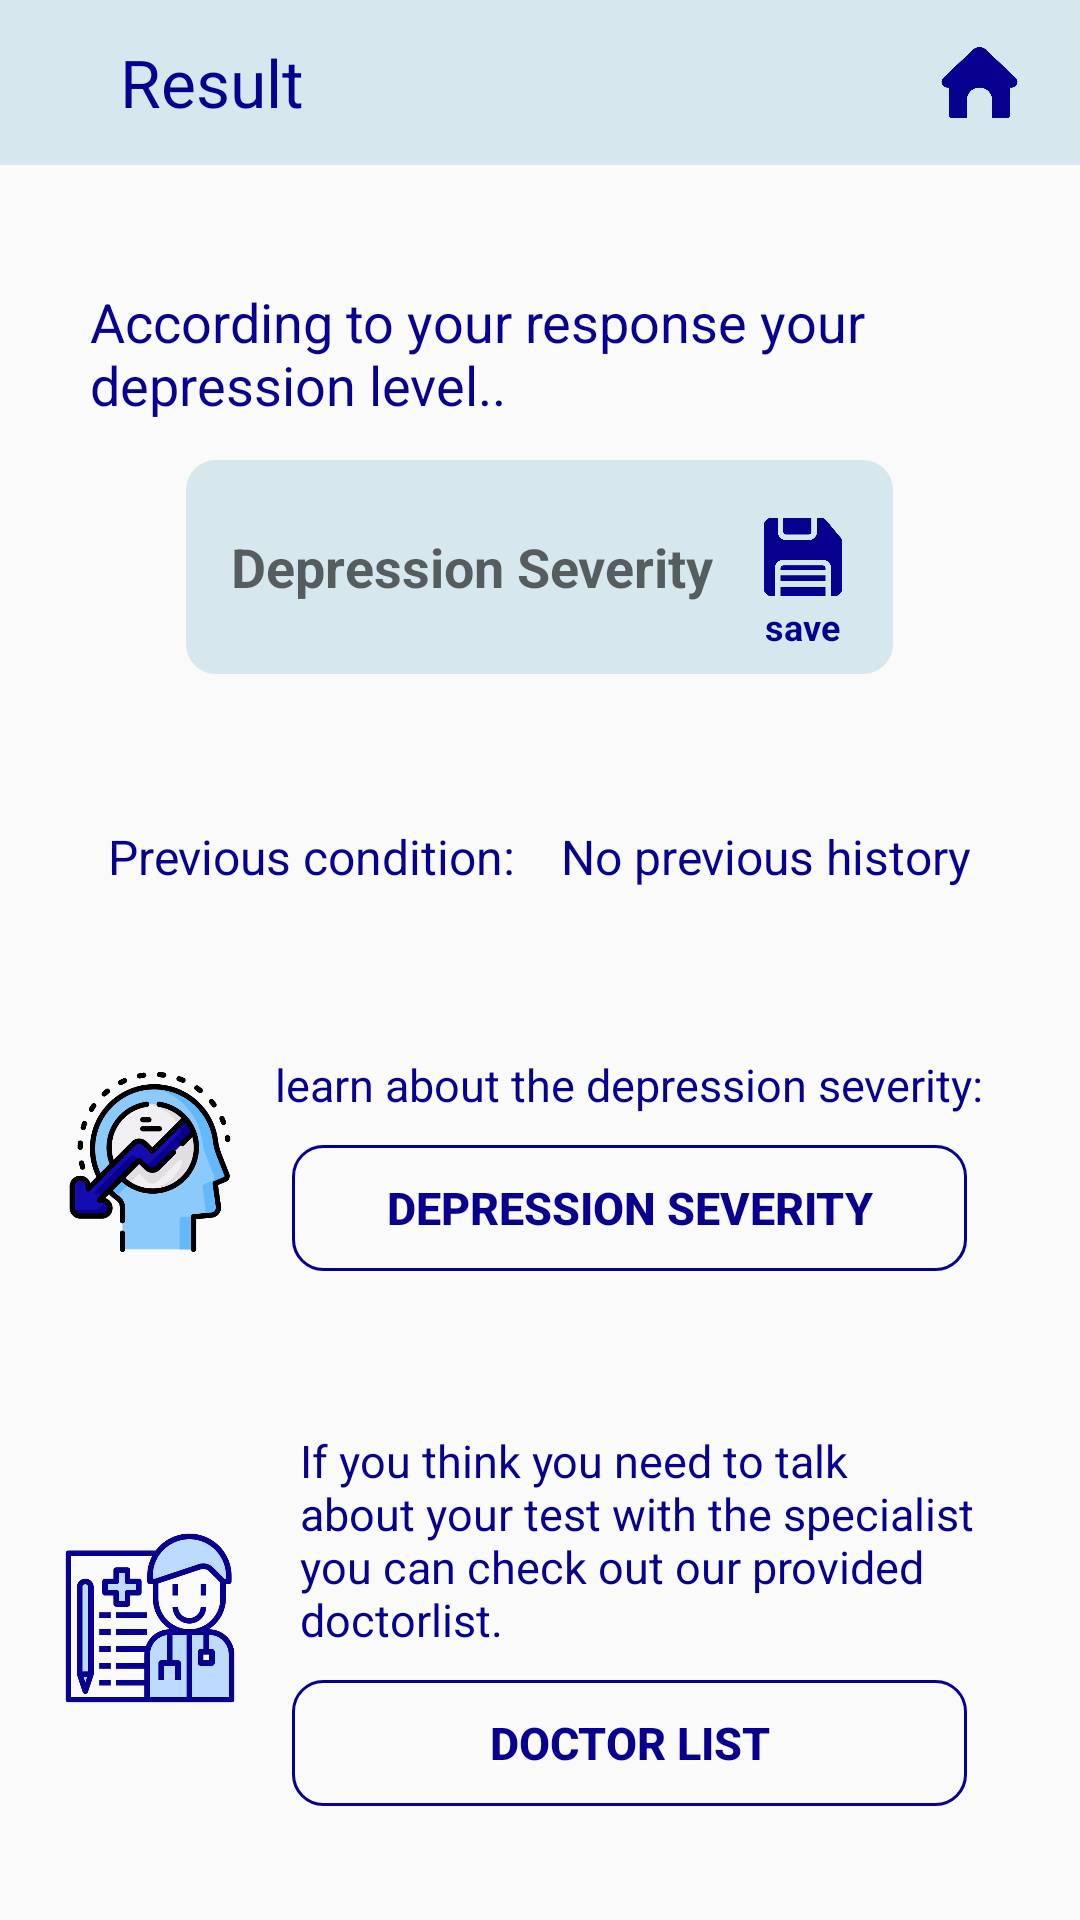

Point at icon controls on the screen. Image size 1080*1920, points as [x,y].
doclist: [150,1618]
homeicon: [979,82]
